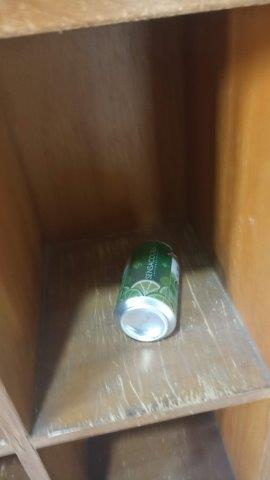kaleng: (116, 241, 181, 341)
